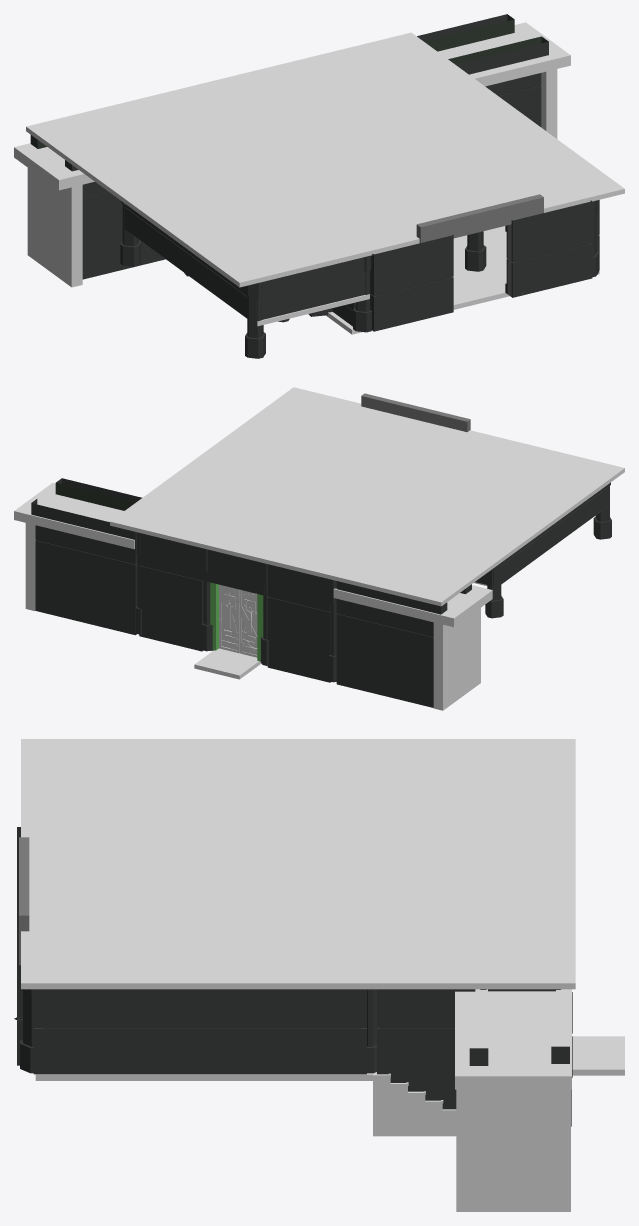
Rendered from Puzzle2Final.FBX.
3 views of the same model, one above another, from view 1: azimuth 30°, elevation 25°; view 2: azimuth 150°, elevation 25°; view 3: azimuth 270°, elevation 25° (orthographic). The views are drawn at different scales.
Visible parts, largest first — view 1: PLAFOND, wall_xl001, wall_xl, Box059, wall_s002, wall_xl013, wall_xl011, Box001, wall_s004, Box008, Box061, wall_xl010 (+7 smaller); view 2: PLAFOND, wall_xl010, wall_xl012, wall_xl007, wall_xl008, Box059, Box061, wall_s004, Box060, wall_xl009, Box008, wall_xl011 (+8 smaller); view 3: PLAFOND, wall_xl002, Box058, Box061, wall_xl003, Box056, Box001, Box054, Box008, pillar_xl002, pillar_xl004.
Part boxes in pixels (bbox=[...]): PLAFOND: bbox=[26, 32, 624, 287]; wall_xl001: bbox=[505, 200, 592, 297]; wall_xl: bbox=[370, 235, 453, 331]; Box059: bbox=[27, 168, 82, 287]; wall_s002: bbox=[256, 257, 365, 321]; wall_xl013: bbox=[65, 160, 165, 279]; wall_xl011: bbox=[448, 36, 548, 126]; Box001: bbox=[326, 226, 599, 334]; wall_s004: bbox=[124, 204, 247, 318]; Box008: bbox=[416, 194, 543, 296]; Box061: bbox=[438, 22, 570, 86]; wall_xl010: bbox=[417, 14, 514, 51]; PLAFOND: bbox=[110, 387, 624, 606]; wall_xl010: bbox=[31, 499, 137, 635]; wall_xl012: bbox=[336, 581, 447, 707]; wall_xl007: bbox=[267, 564, 331, 682]; wall_xl008: bbox=[139, 533, 203, 651]; Box059: bbox=[433, 608, 480, 710]; Box061: bbox=[14, 483, 134, 549]; wall_s004: bbox=[501, 486, 606, 584]; Box060: bbox=[333, 585, 492, 627]; wall_xl009: bbox=[202, 548, 264, 595]; Box008: bbox=[361, 393, 470, 431]; wall_xl011: bbox=[55, 478, 142, 510]; PLAFOND: bbox=[21, 739, 575, 989]; wall_xl002: bbox=[33, 989, 366, 1074]; Box058: bbox=[456, 1089, 570, 1211]; Box061: bbox=[455, 989, 571, 1089]; wall_xl003: bbox=[377, 989, 475, 1109]; Box056: bbox=[373, 1072, 456, 1136]; Box001: bbox=[35, 1073, 372, 1080]; Box054: bbox=[572, 1036, 624, 1075]; Box008: bbox=[19, 837, 29, 965]; pillar_xl002: bbox=[20, 989, 33, 1073]; pillar_xl004: bbox=[367, 989, 376, 1073].
Bounding box in the file's own units: 4478 × 1175 × 3565.
Materials: 18 (2 with a texture image).
